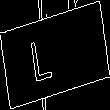L_N: (42, 27, 68, 83)
